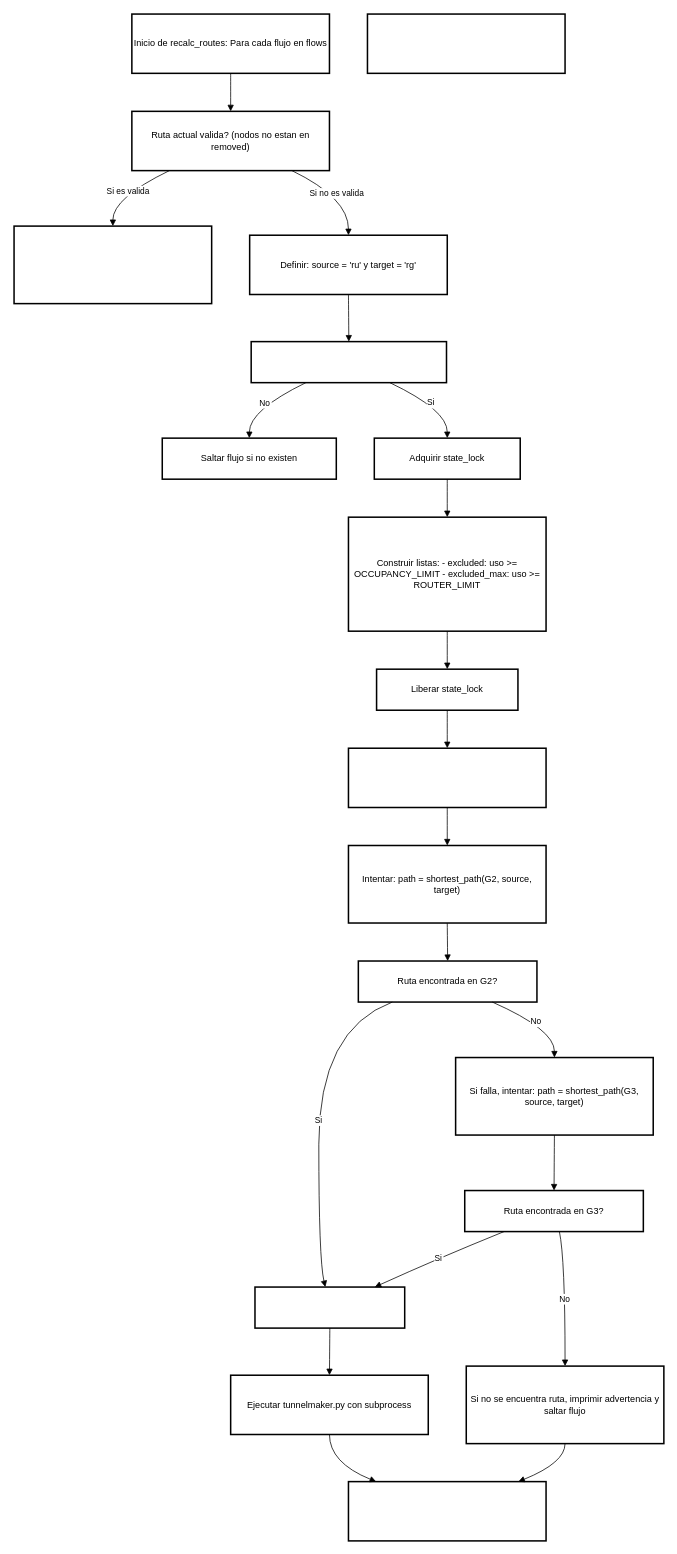
Some shapes in this 677 by 1554 pixel diagram are drawn without their labels. The box of each missing label's shape, as (x1, y1, x2, y2) in pixels:
Asignar ruta al flujo: (254, 1286, 405, 1328)
Crear copia G2 (remover excluded): (347, 747, 546, 808)
Crear copia G3 (remover excluded_max): (366, 13, 565, 74)
Fin de la iteracion para el flujo: (347, 1480, 546, 1541)
G contiene source y target?: (250, 340, 447, 383)
Si la ruta es valida, continuar con el siguiente flujo: (13, 225, 212, 304)
